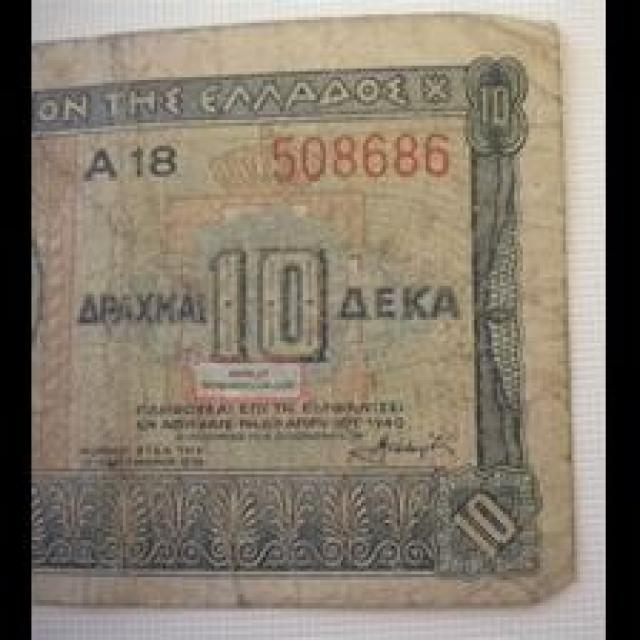banknote: (32, 12, 579, 614), (202, 240, 334, 363), (445, 476, 532, 575), (469, 70, 528, 150)
